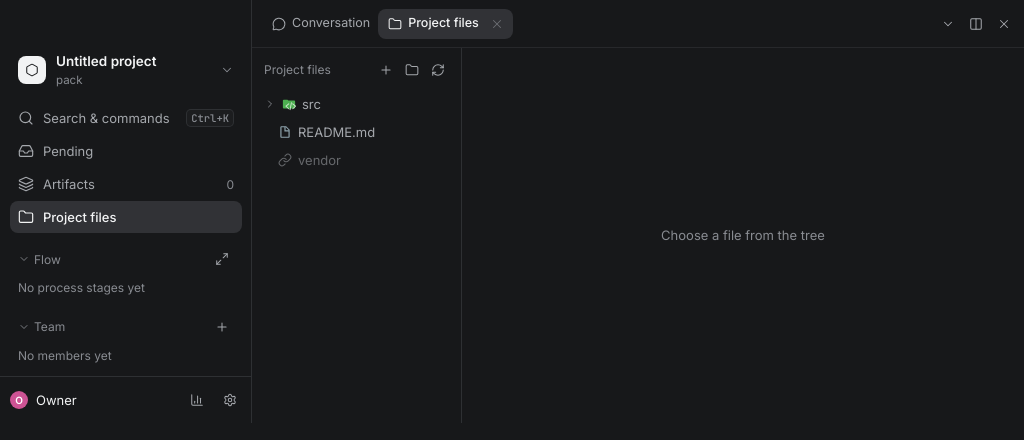
Test: 文件树行右键菜单（A16b 第一批） › 文件：打开 · 插入到输入条 · 复制路径 · 在访达中显示，依此顺序
Right-click the list item "README.md" at (357, 132), box [258,118,456,146]
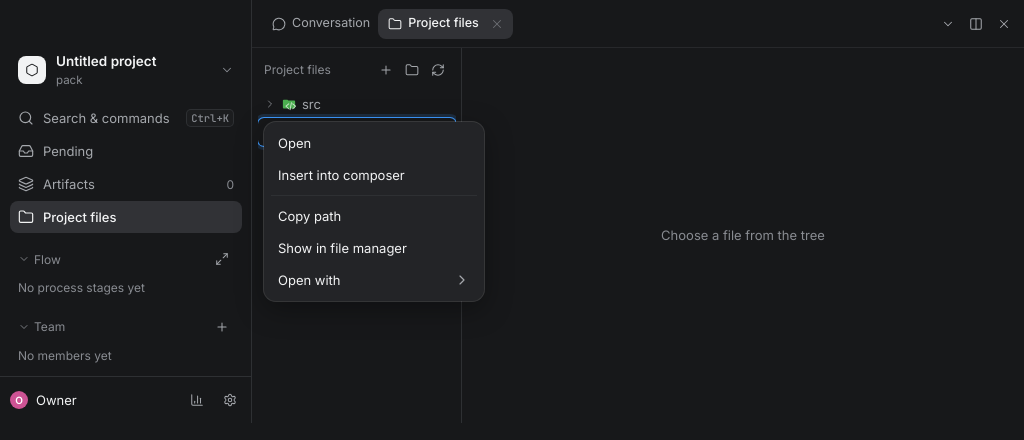
Expected: the menu item "Show in file manager" is shown, [278,240,407,256]
